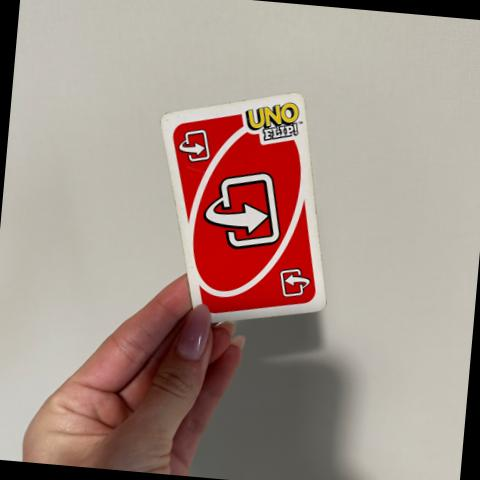lredflip-20: (174, 117, 223, 173)
